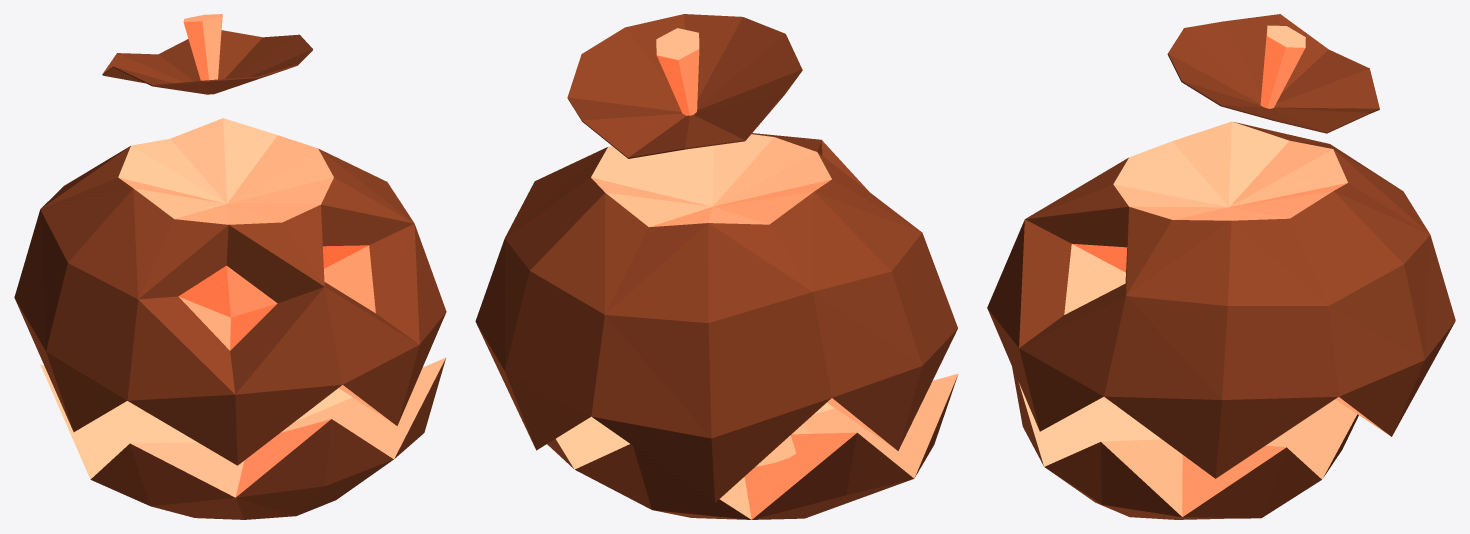
The model's file is pumpkin_rig_jump 1.FBX.
3 renders of one model, left to right at view 1: azimuth 30°, elevation 25°; view 2: azimuth 150°, elevation 25°; view 3: azimuth 270°, elevation 25°, orthographic. The views are drawn at different scales.
Visible parts, largest first — view 1: BouncyBone_001, BouncyBone_002, BouncyBone_004; view 2: BouncyBone_001, BouncyBone_004, BouncyBone_002, Circle001; view 3: BouncyBone_001, BouncyBone_002, BouncyBone_004.
Part boxes in pixels (x1=…): BouncyBone_001: x1=14, y1=118, x2=446, y2=465; BouncyBone_002: x1=40, y1=357, x2=445, y2=519; BouncyBone_004: x1=102, y1=14, x2=312, y2=94; BouncyBone_001: x1=475, y1=133, x2=957, y2=502; BouncyBone_004: x1=567, y1=14, x2=802, y2=158; BouncyBone_002: x1=547, y1=373, x2=958, y2=519; Circle001: x1=756, y1=423, x2=809, y2=466; BouncyBone_001: x1=987, y1=121, x2=1455, y2=478; BouncyBone_002: x1=1012, y1=367, x2=1358, y2=519; BouncyBone_004: x1=1167, y1=14, x2=1379, y2=133.
Size of the model in its own units: 752 by 792 by 848.
